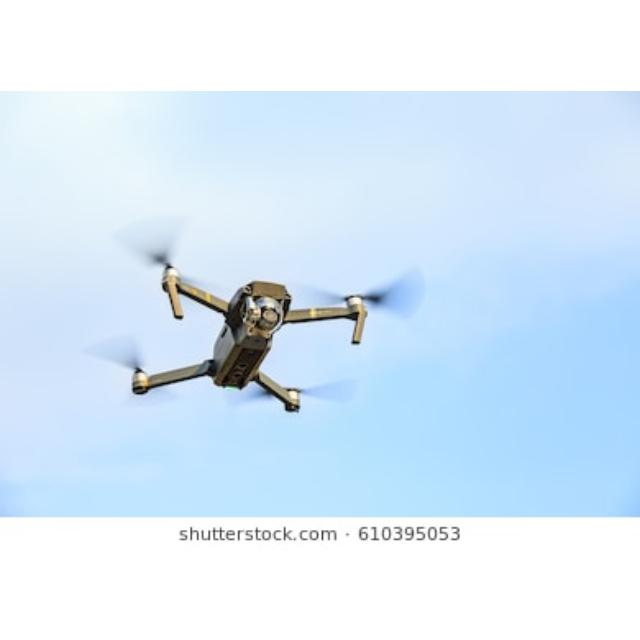Drones: (137, 268, 365, 416)
